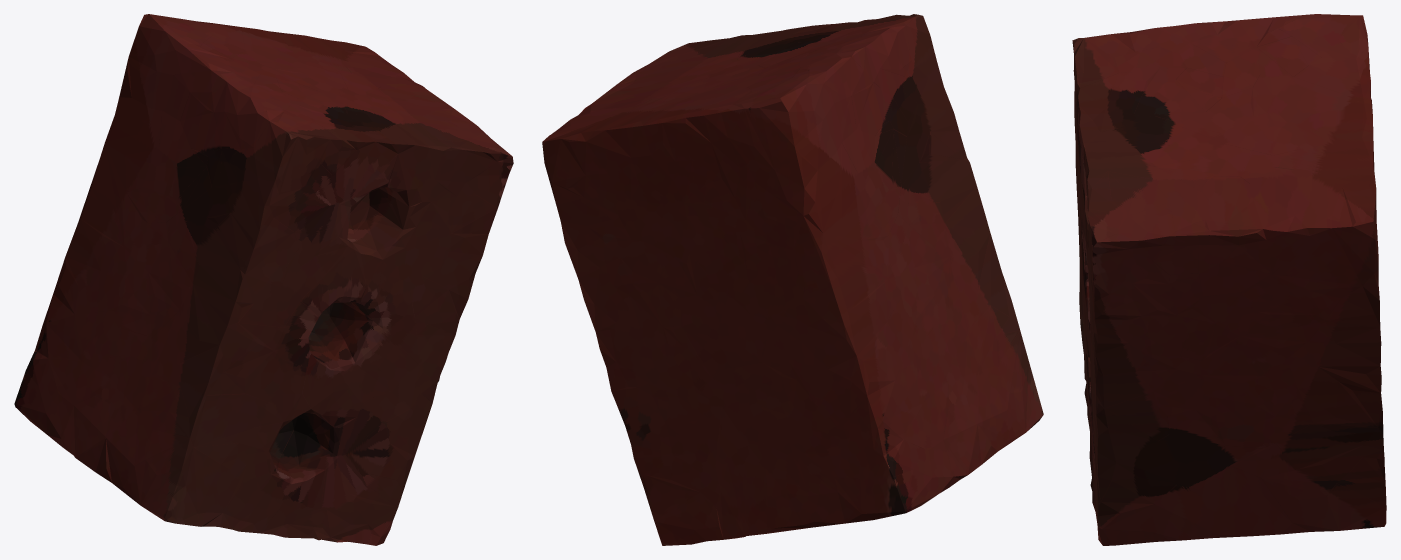
The model's file is classic_foam.obj.
The picture shows the model from 3 angles, left to right: view 1: azimuth 30°, elevation 25°; view 2: azimuth 150°, elevation 25°; view 3: azimuth 270°, elevation 25°; orthographic projection. The views are drawn at different scales.
Bounding box in the file's own units: 0.0741 × 0.0903 × 0.0541.
Materials: 1 (1 with a texture image).
